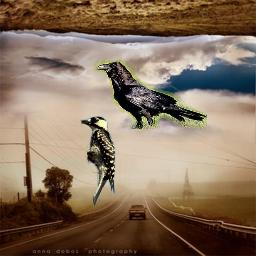Crow: (94, 60, 207, 129)
Woodpecker: (79, 116, 117, 207)
